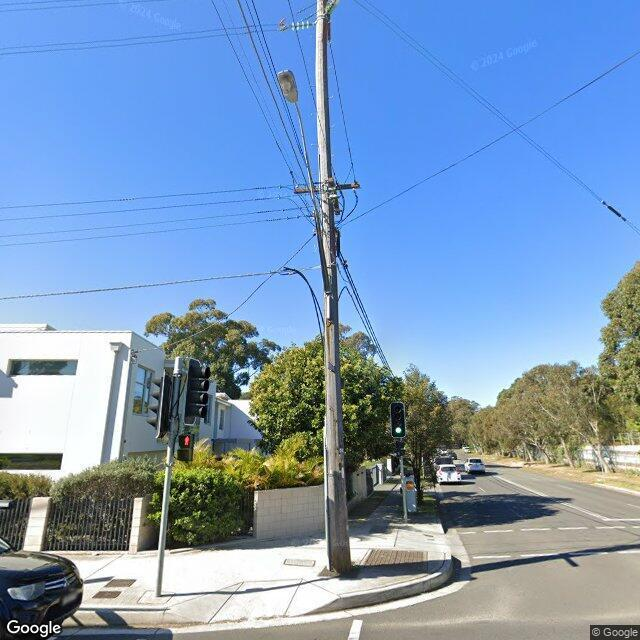HV-transmission: (276, 0, 338, 32)
crossarm: (293, 182, 360, 194), (327, 177, 340, 216)
steel-pole: (154, 356, 183, 596), (397, 436, 408, 523)
streetlight: (277, 70, 331, 294)
timber-pole: (316, 0, 352, 575)
traffic-light: (181, 358, 211, 427), (148, 370, 173, 441), (178, 431, 195, 463), (391, 402, 406, 436), (397, 441, 408, 459)
